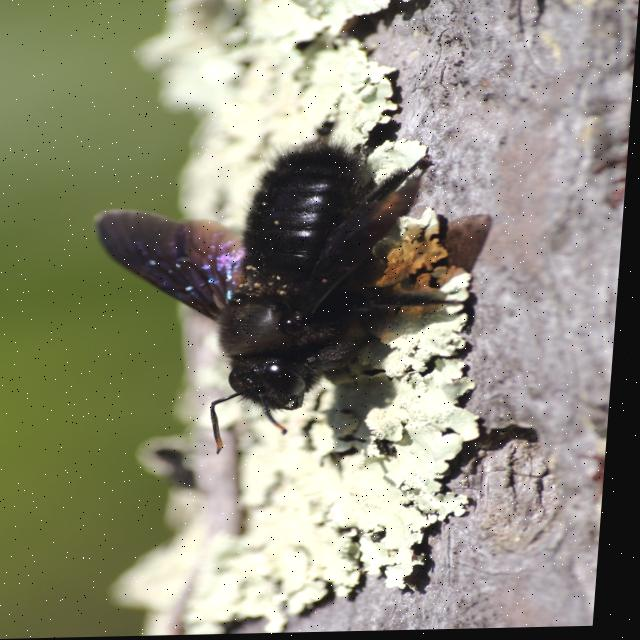Xylocopa: (77, 135, 480, 445)
